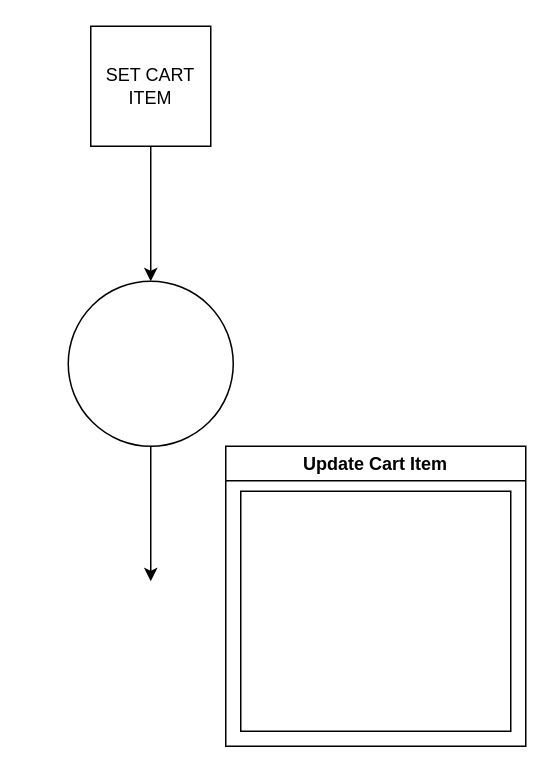
Image size: 552x773. Some labels were removed from this diagram. The shapes that lost their labels are listed below. From the top down, each one's centre as x and y in pixels, then its label:
At (150,363): "Cart.find((index) => index.id == product.id )".
At (375,610): "Cart.map((item) => { if }".
